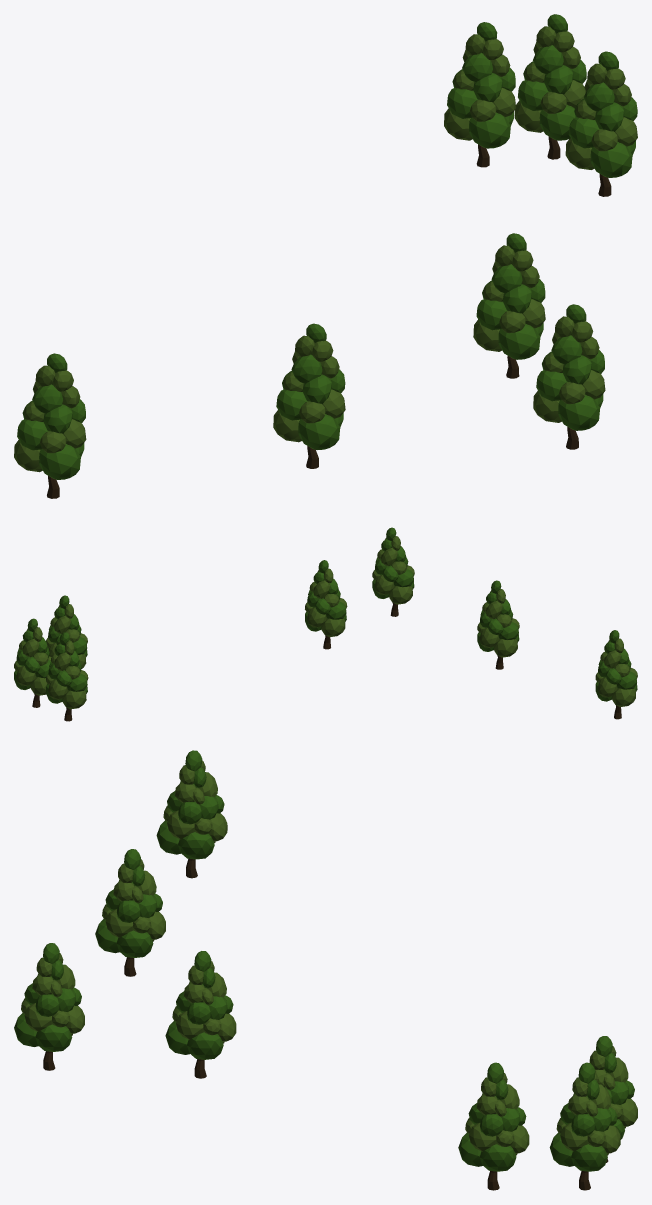
File: tree2.obj
3 renders of one model, top to bottom at view 1: azimuth 30°, elevation 25°; view 2: azimuth 150°, elevation 25°; view 3: azimuth 270°, elevation 25°, orthographic. The views are drawn at different scales.
Visible parts, largest first — view 1: Poplar_Cylinder.004, Poplar_Cylinder.005, Poplar_Cylinder.001, Poplar_Cylinder.002, Poplar_Cylinder.007, Poplar_Cylinder.003, Poplar_Cylinder.006; view 2: Poplar_Cylinder.004, Poplar_Cylinder.007, Poplar_Cylinder.003, Poplar_Cylinder.002, Poplar_Cylinder.001, Poplar_Cylinder.006, Poplar_Cylinder.005; view 3: Poplar_Cylinder.005, Poplar_Cylinder.004, Poplar_Cylinder.001, Poplar_Cylinder.003, Poplar_Cylinder.002, Poplar_Cylinder.006, Poplar_Cylinder.007.
Boxes of the visible parts, x1,y1,x2,y2 form: Poplar_Cylinder.004: [473, 233, 545, 378]; Poplar_Cylinder.005: [565, 51, 637, 196]; Poplar_Cylinder.001: [273, 323, 345, 468]; Poplar_Cylinder.002: [533, 304, 605, 449]; Poplar_Cylinder.007: [444, 22, 516, 167]; Poplar_Cylinder.003: [14, 353, 86, 498]; Poplar_Cylinder.006: [514, 14, 586, 159]; Poplar_Cylinder.004: [305, 560, 347, 649]; Poplar_Cylinder.007: [46, 632, 88, 721]; Poplar_Cylinder.003: [595, 630, 637, 719]; Poplar_Cylinder.002: [372, 527, 414, 616]; Poplar_Cylinder.001: [477, 580, 519, 669]; Poplar_Cylinder.006: [14, 618, 51, 707]; Poplar_Cylinder.005: [46, 595, 87, 668]; Poplar_Cylinder.005: [458, 1062, 529, 1190]; Poplar_Cylinder.004: [165, 951, 236, 1078]; Poplar_Cylinder.001: [95, 849, 165, 976]; Poplar_Cylinder.003: [156, 750, 227, 878]; Poplar_Cylinder.002: [14, 943, 84, 1070]; Poplar_Cylinder.006: [549, 1062, 620, 1190]; Poplar_Cylinder.007: [589, 1036, 637, 1162].
Size of the model in its own units: 1241 by 218 by 956.
